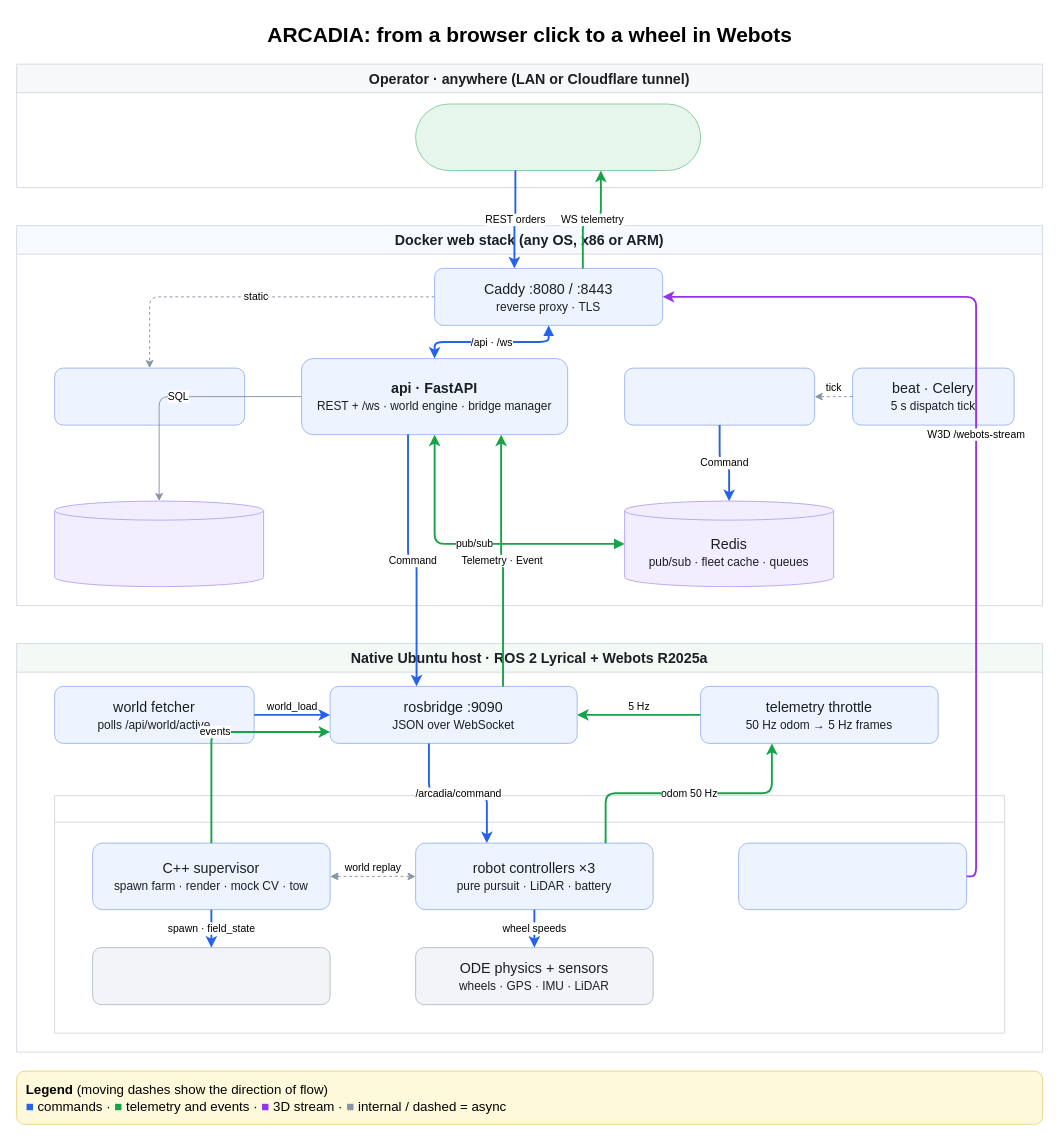
This 1059x1141 diagram has some shape labels left out. Each missing label, with the box of its shape:
farm scene beds · tracks · docks (primitives): (92, 947, 330, 1005)
Postgres + TimescaleDB farms · missions · telemetry: (54, 500, 264, 587)
React dashboard MapLibre · Altara canvas 60 fps · W3D viewer: (415, 103, 701, 171)
W3D stream :1234 3D view for the browser: (738, 842, 967, 910)
web React static build: (54, 367, 245, 425)
Webots · 32 ms physics step: (54, 795, 1005, 1033)
worker · Celery dispatch · recovery · chaos: (624, 367, 815, 425)
